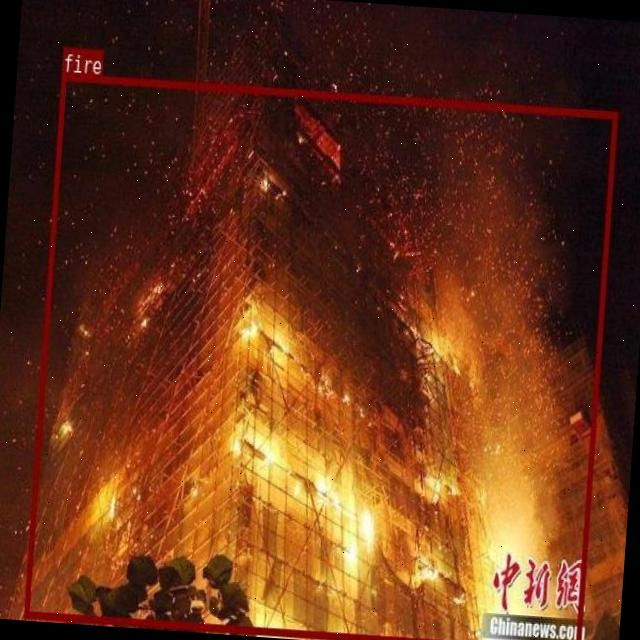fire: (22, 72, 616, 640)
